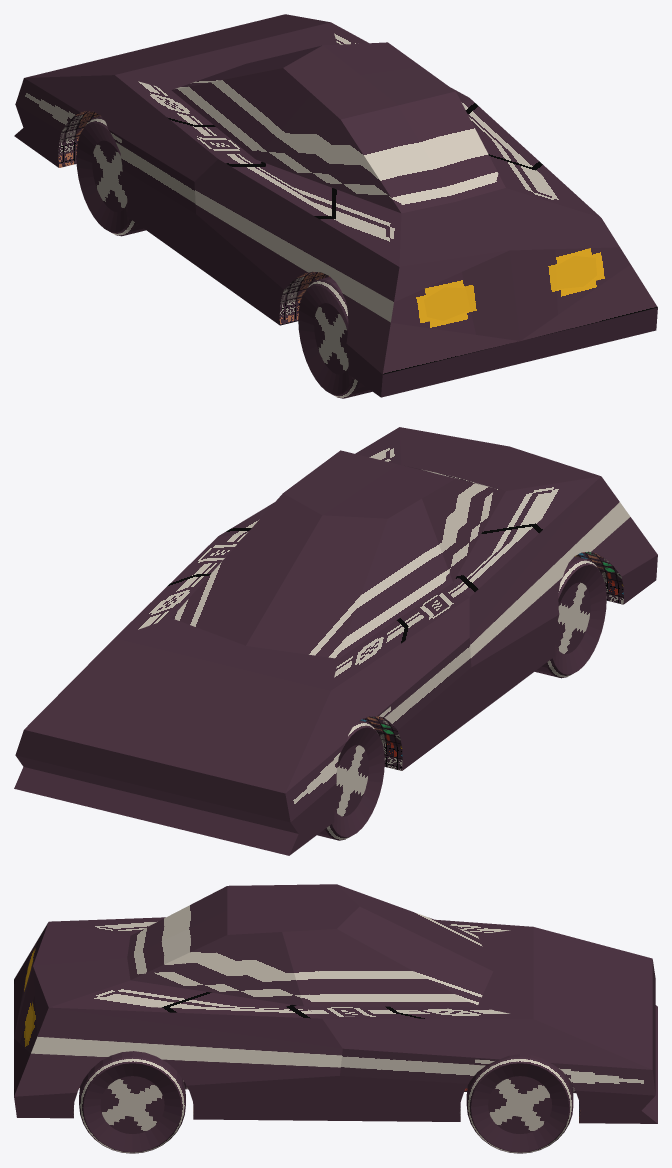
File: car_miz_jam.glb
3 views of the same model, one above another, from view 1: azimuth 30°, elevation 25°; view 2: azimuth 150°, elevation 25°; view 3: azimuth 270°, elevation 25° (orthographic). The views are drawn at different scales.
Parts seen in each view (by area): view 1: car, back_left, front_left; view 2: car, back_left, front_left; view 3: car, back_right, front_right.
Part boxes in pixels (left/top/right/bottom): car: left=14, top=14, right=657, bottom=397; back_left: left=298, top=277, right=372, bottom=398; front_left: left=76, top=116, right=145, bottom=236; car: left=14, top=427, right=657, bottom=855; back_left: left=534, top=556, right=606, bottom=678; front_left: left=317, top=720, right=384, bottom=840; car: left=14, top=884, right=657, bottom=1123; back_right: left=79, top=1051, right=185, bottom=1153; front_right: left=466, top=1054, right=573, bottom=1153.
Size of the model in its own units: 8.65 by 6.74 by 20.07.
1 material, 1 textured.
